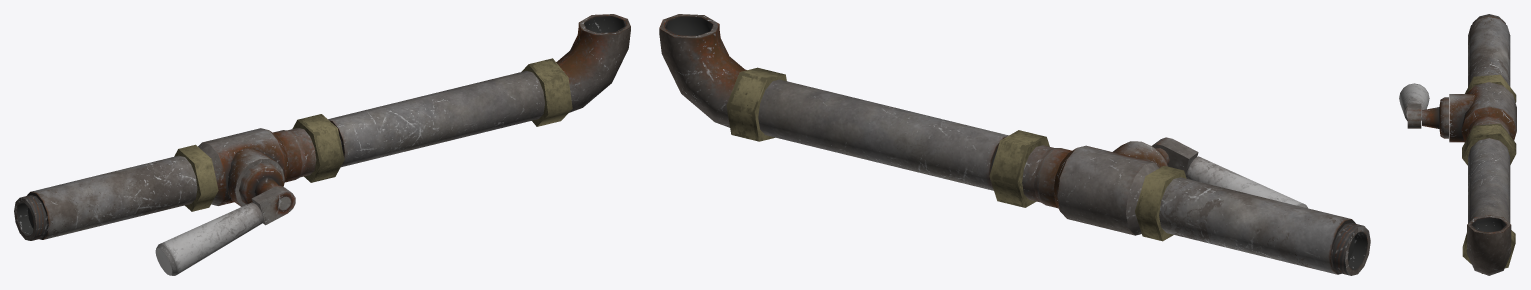
File: Tube_Ready.fbx
3 renders of one model, left to right at view 1: azimuth 30°, elevation 25°; view 2: azimuth 150°, elevation 25°; view 3: azimuth 270°, elevation 25°, orthographic. The views are drawn at different scales.
Visible parts, largest first — view 1: TubeBase_Ready, TubeValve_Ready; view 2: TubeBase_Ready, TubeValve_Ready; view 3: TubeBase_Ready, TubeValve_Ready.
Boxes of the visible parts, x1,y1,x2,y2 form: TubeBase_Ready: (14, 14, 630, 240); TubeValve_Ready: (155, 185, 295, 275); TubeBase_Ready: (659, 14, 1370, 275); TubeValve_Ready: (1152, 137, 1307, 208); TubeBase_Ready: (1422, 14, 1516, 275); TubeValve_Ready: (1399, 83, 1429, 128).
Bounding box in the file's own units: 125 × 20.04 × 25.08.
